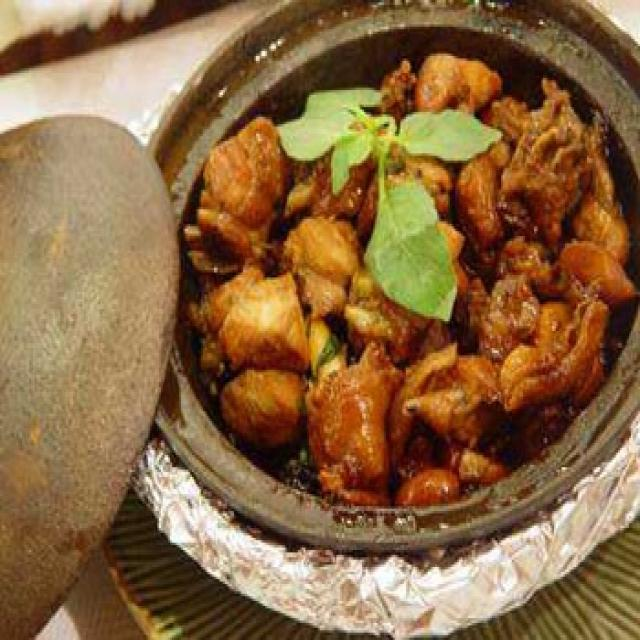鸡肉料理 含炸鸡: (176, 24, 624, 533)
